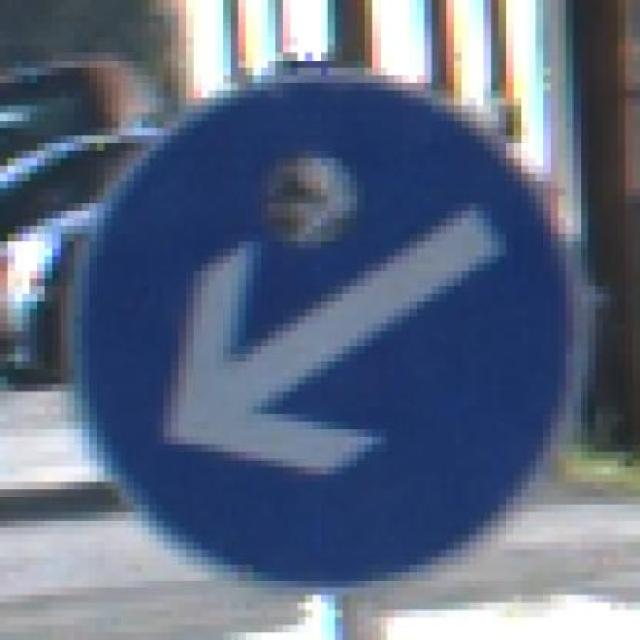Keep-Left: (59, 45, 596, 602)
